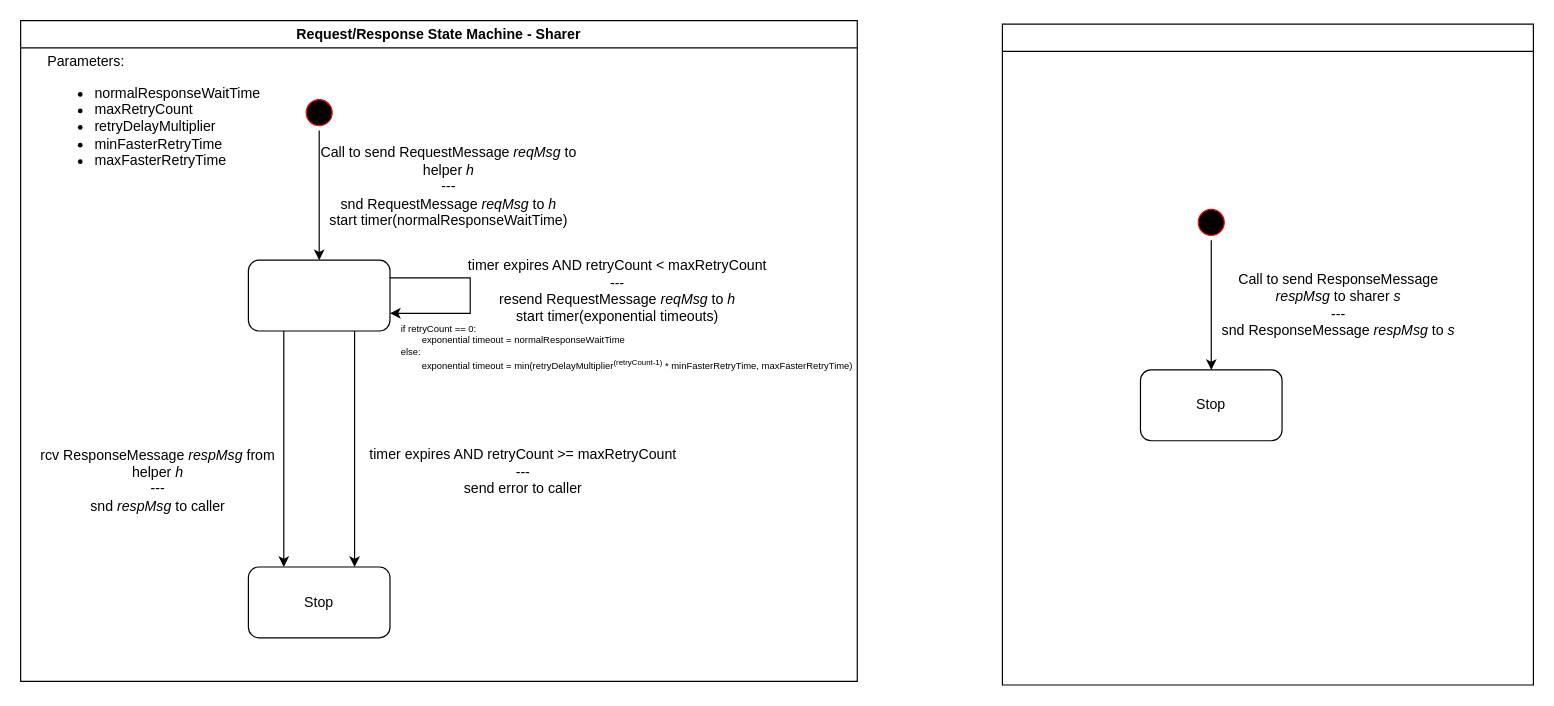
This 1554x706 diagram has some shape labels left out. Here are the shapes that lost their labels. From the top down, the box of each, then its label:
(247, 259, 390, 331): Response Wait
(1001, 23, 1533, 685): Request/Response State Machine - Helper
